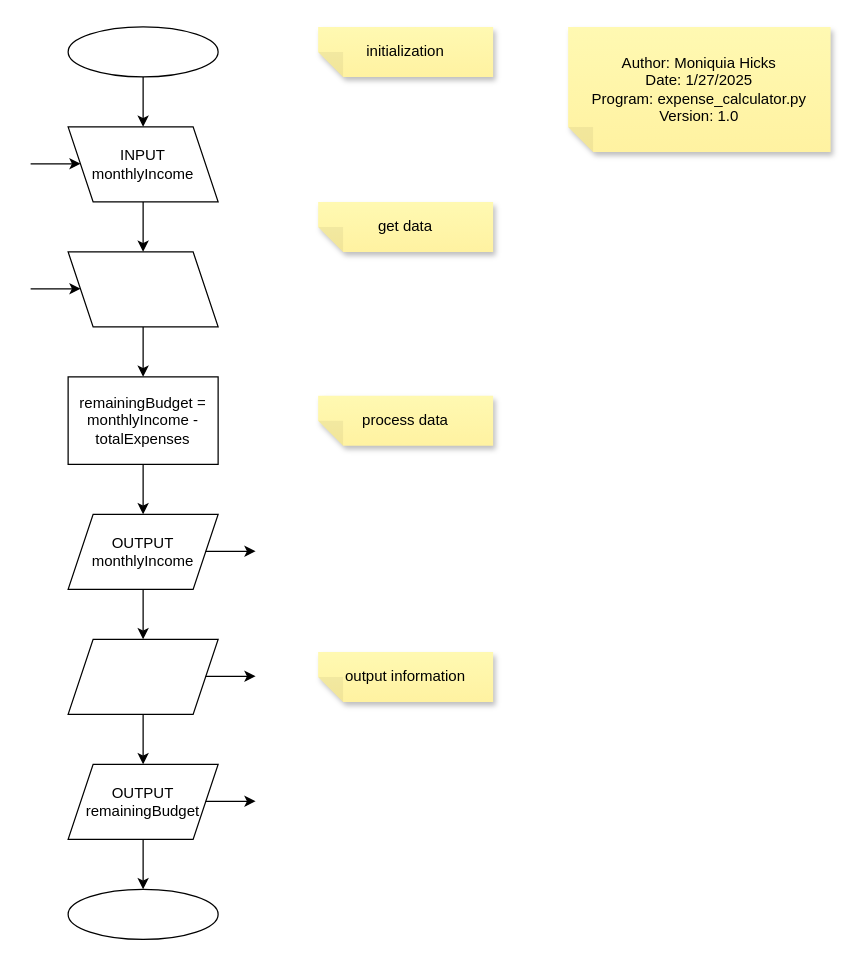
Some shapes in this 860 by 961 pixel diagram are drawn without their labels. Each missing label, with the centre of its shape:
"INPUT totalExpenses" belongs at point 142,289.
"OUTPUT totalExpenses" belongs at point 142,676.
"start" belongs at point 142,51.
"stop" belongs at point 142,913.
